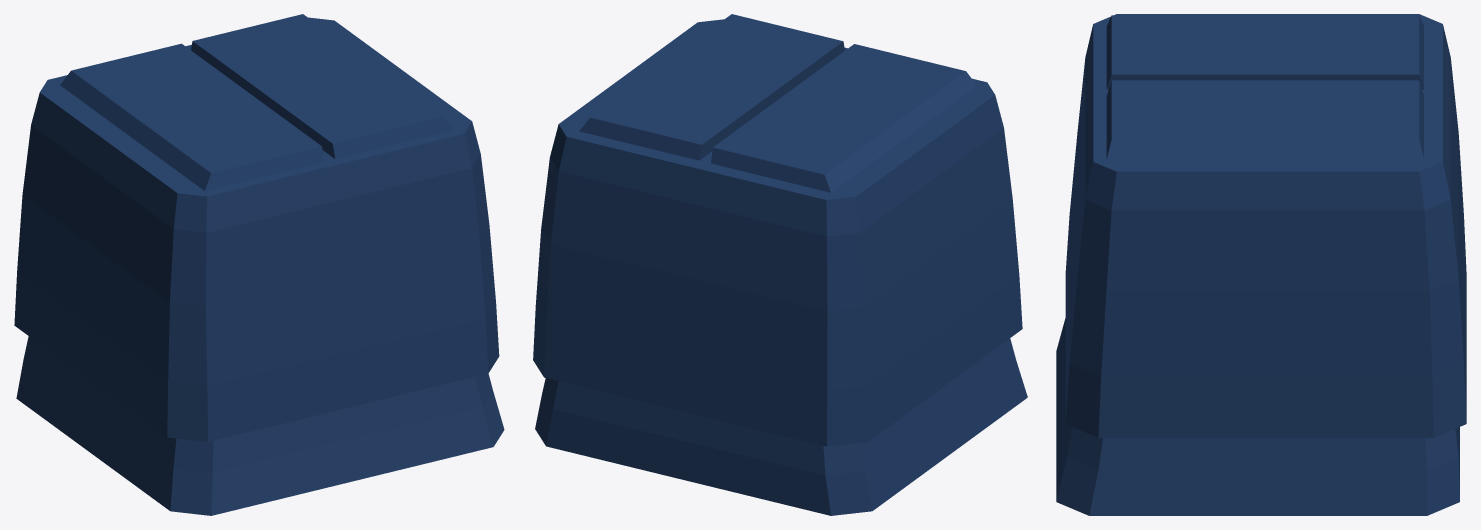
The model's file is hair_boy_high_top_fade_01.glb.
3 views of the same model, side by side, from view 1: azimuth 30°, elevation 25°; view 2: azimuth 150°, elevation 25°; view 3: azimuth 270°, elevation 25° (orthographic). The views are drawn at different scales.
Visible parts, largest first — view 1: HighTop_Block, HighTop_Fade_Step, HighTop_CrownFacet_L, HighTop_CrownFacet_R; view 2: HighTop_Block, HighTop_Fade_Step, HighTop_CrownFacet_L, HighTop_CrownFacet_R; view 3: HighTop_Block, HighTop_Fade_Step, HighTop_CrownFacet_R, HighTop_CrownFacet_L.
Part boxes in pixels (<box>): HighTop_Block: <box>14,17,499,441</box>; HighTop_Fade_Step: <box>16,336,504,515</box>; HighTop_CrownFacet_L: <box>60,43,323,190</box>; HighTop_CrownFacet_R: <box>191,14,453,159</box>; HighTop_Block: <box>533,19,1022,446</box>; HighTop_Fade_Step: <box>535,338,1027,515</box>; HighTop_CrownFacet_L: <box>711,44,976,192</box>; HighTop_CrownFacet_R: <box>579,14,844,160</box>; HighTop_Block: <box>1065,14,1466,437</box>; HighTop_Fade_Step: <box>1056,318,1459,515</box>; HighTop_CrownFacet_R: <box>1106,80,1423,159</box>; HighTop_CrownFacet_L: <box>1106,15,1423,89</box>.
Bounding box in the file's own units: 0.322 × 0.293 × 0.312.
